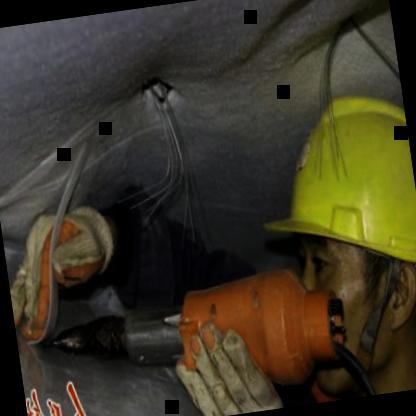helmet: (237, 49, 416, 407)
